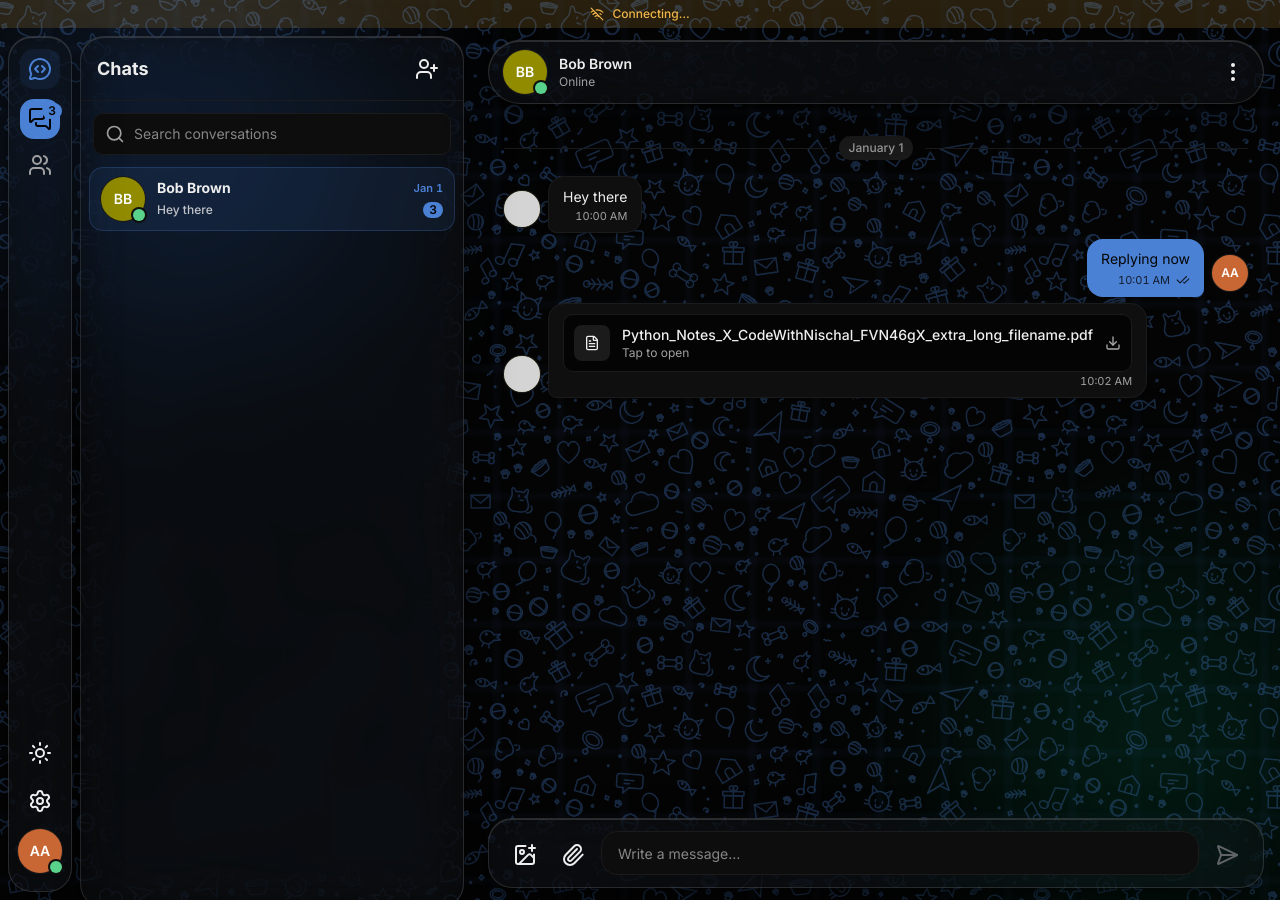
Test: signed-in shell › shows an optimistic bubble the moment a message is sent
Type "Hello from the test" into the text box with placeholder "Write a message…" at (900, 853), box [601,831,1199,875]
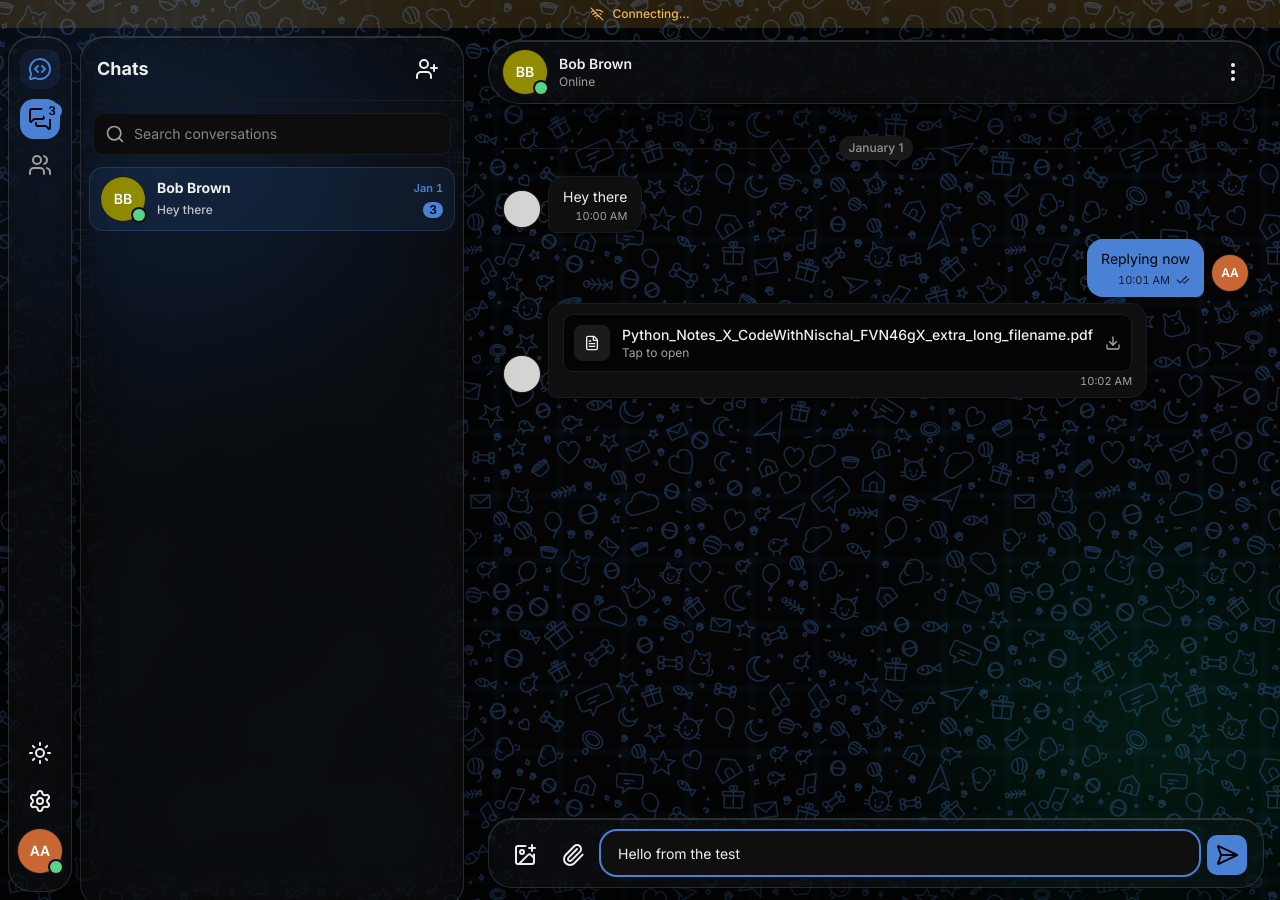
Click the button named "send message" at (1227, 855), box [1207,835,1247,875]
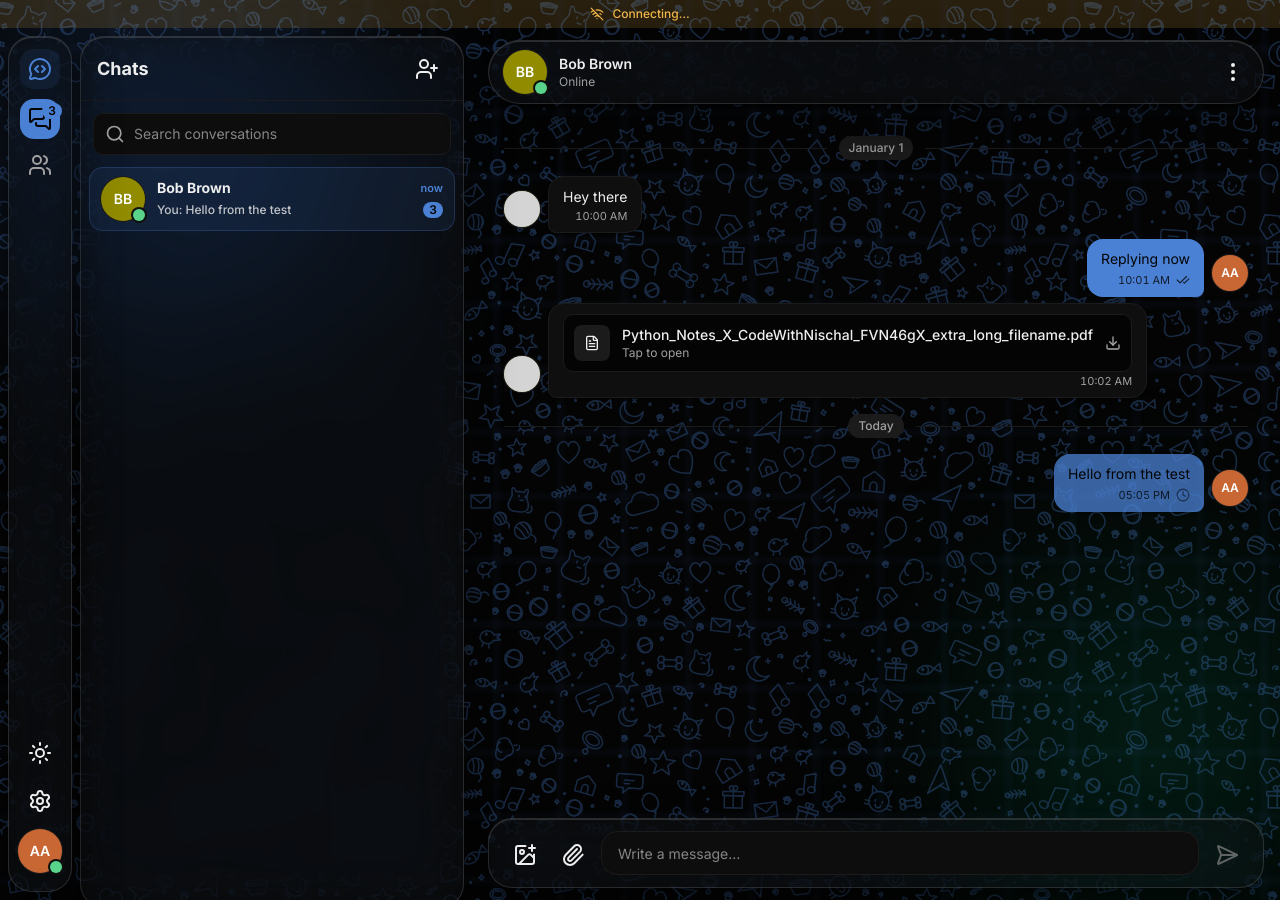
Expected: the text "Hello from the test" is shown, [1068,464,1190,484]
Expected: the text box with placeholder "Write a message…" is empty, [601,831,1199,875]
